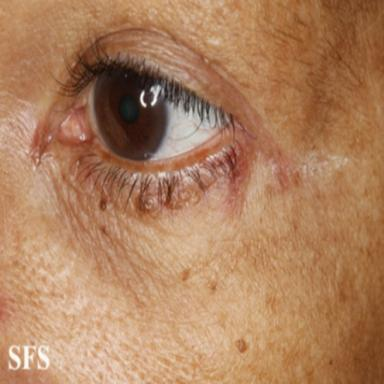Hailey-Hailey-Disease: (218, 140, 258, 217)
